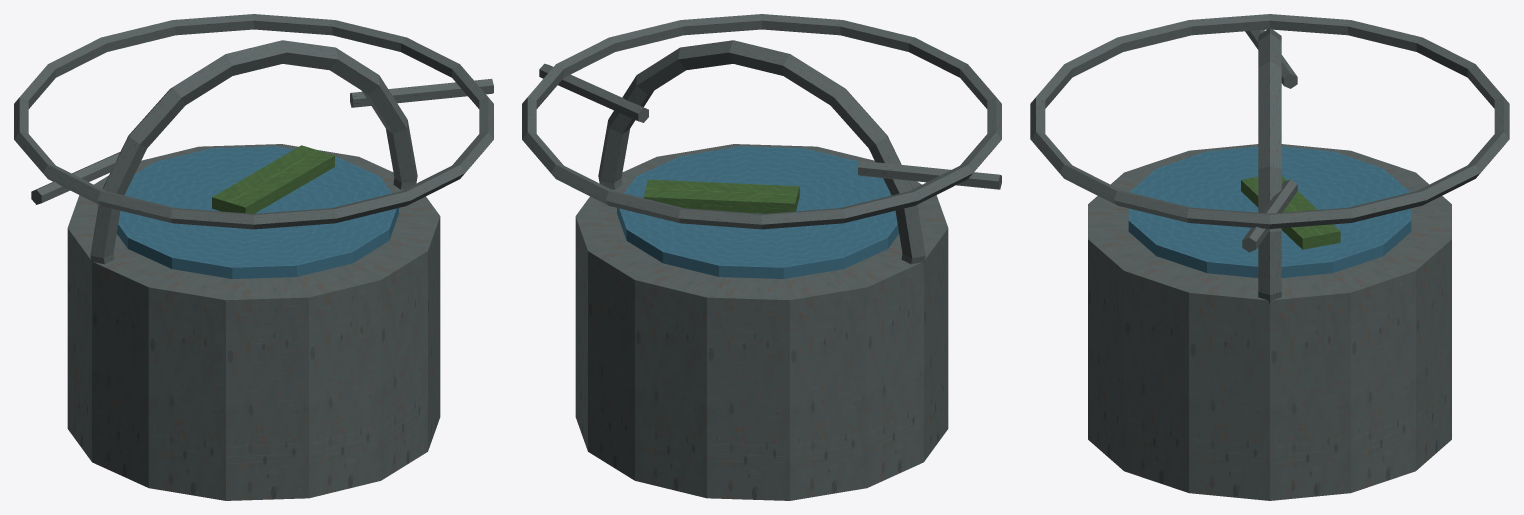
Rendered from pr-015_cook_pot__cooking.obj.
The picture shows the model from 3 angles, left to right: view 1: azimuth 30°, elevation 25°; view 2: azimuth 150°, elevation 25°; view 3: azimuth 270°, elevation 25°; orthographic projection.
Parts seen in each view (by area): view 1: pr-015_cook_pot__cooking; view 2: pr-015_cook_pot__cooking; view 3: pr-015_cook_pot__cooking.
Part boxes in pixels (x1=…): pr-015_cook_pot__cooking: x1=14, y1=14, x2=493, y2=500; pr-015_cook_pot__cooking: x1=522, y1=14, x2=1001, y2=500; pr-015_cook_pot__cooking: x1=1030, y1=14, x2=1509, y2=500.
Size of the model in its own units: 0.766 by 0.5989 by 0.6933.
3 materials, 3 textured.
